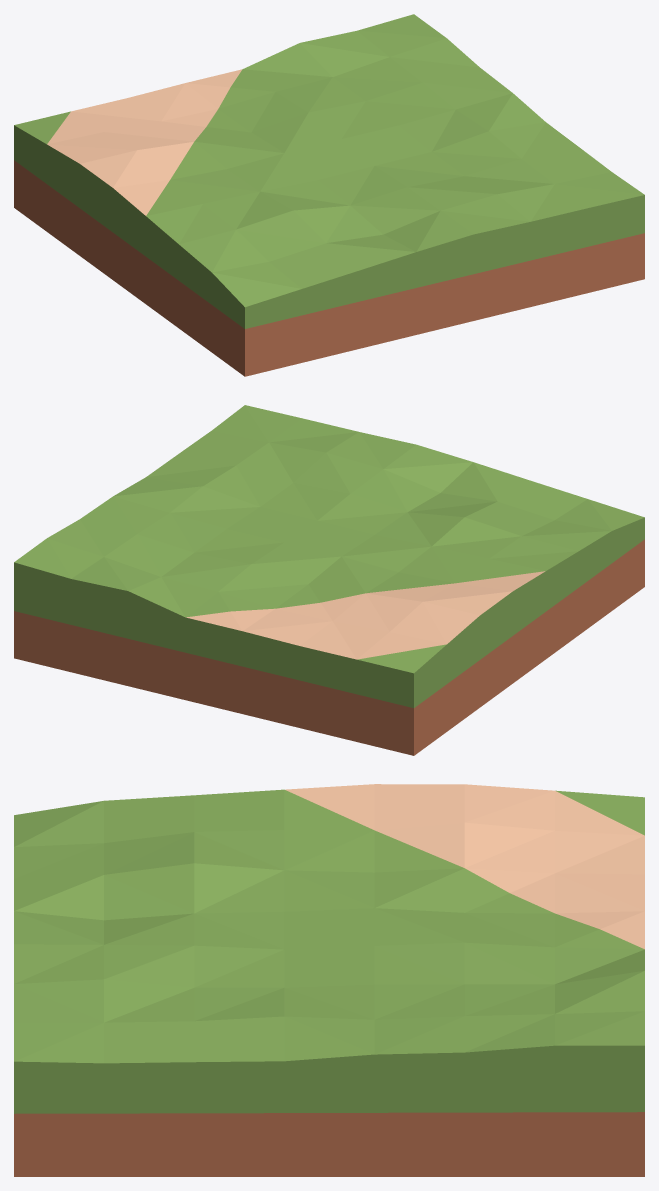
Rendered from ground.fbx.
3 renders of one model, top to bottom at view 1: azimuth 30°, elevation 25°; view 2: azimuth 150°, elevation 25°; view 3: azimuth 270°, elevation 25°, orthographic. The views are drawn at different scales.
Parts seen in each view (by area): view 1: ground; view 2: ground; view 3: ground.
Boxes of the visible parts, x1,y1,x2,y2 form: ground: (14, 14, 644, 376); ground: (14, 405, 644, 755); ground: (14, 784, 644, 1176).
Bounding box in the file's own units: 382 × 382 × 87.59.
